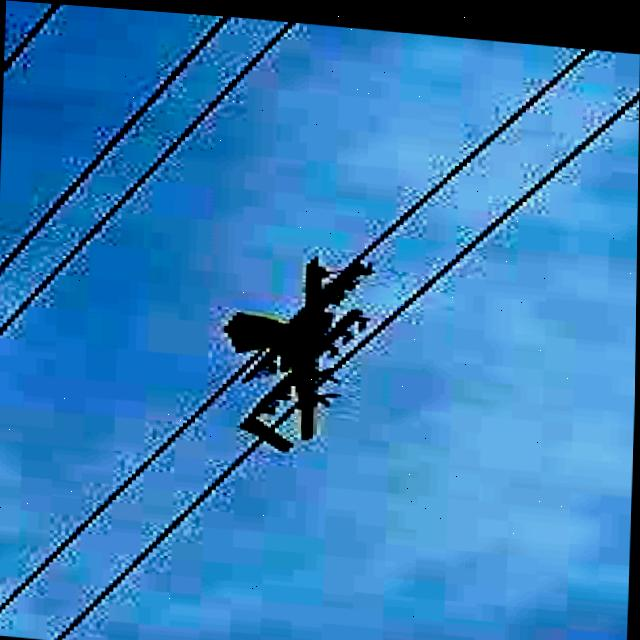obstruction: (233, 253, 372, 443)
wires: (0, 17, 299, 334), (338, 82, 639, 364), (0, 349, 266, 613), (2, 13, 230, 270), (357, 39, 592, 254), (59, 434, 264, 638), (15, 29, 35, 55), (35, 11, 51, 27), (51, 3, 60, 11)
